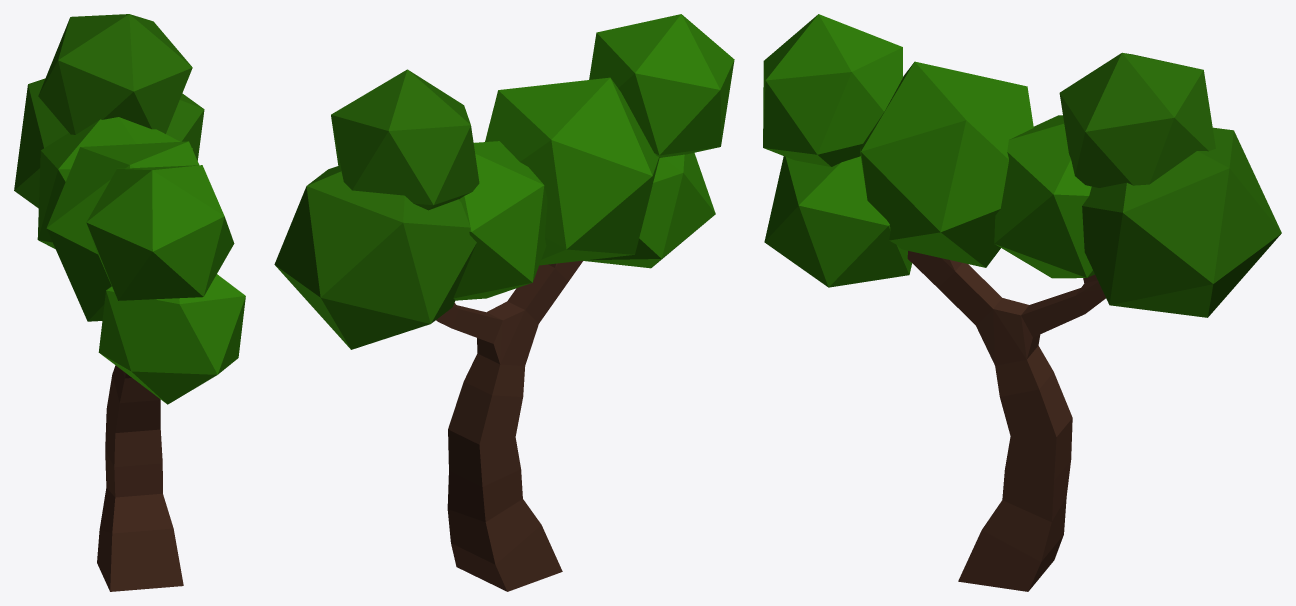
File: Tree 2.fbx
3 views of the same model, side by side, from view 1: azimuth 30°, elevation 25°; view 2: azimuth 150°, elevation 25°; view 3: azimuth 270°, elevation 25° (orthographic). The views are drawn at different scales.
Visible parts, largest first — view 1: Cube; view 2: Cube; view 3: Cube.
Part boxes in pixels (x1,y1,x2,y2): Cube: (14, 14, 245, 591); Cube: (274, 14, 734, 591); Cube: (763, 14, 1281, 591).
Size of the model in its own units: 306 by 581 by 505.
